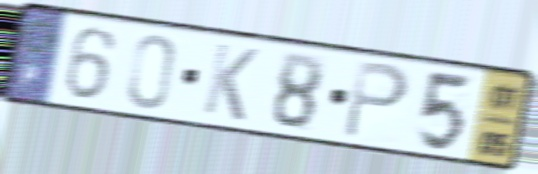0: (125, 31, 178, 111)
5: (411, 68, 477, 154)
6: (63, 24, 119, 103)
8: (268, 50, 327, 133)
K: (199, 40, 262, 125)
P: (340, 57, 413, 142)
